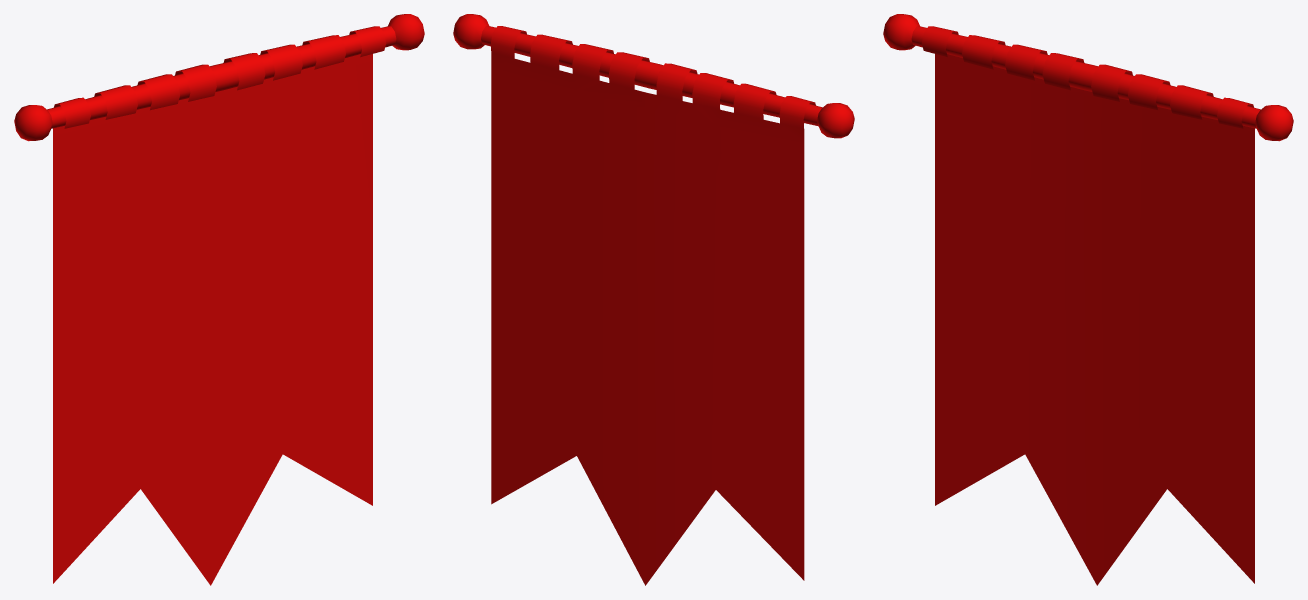
The model's file is Banner.fbx.
The picture shows the model from 3 angles, left to right: view 1: azimuth 30°, elevation 25°; view 2: azimuth 150°, elevation 25°; view 3: azimuth 330°, elevation 25°; orthographic projection. The views are drawn at different scales.
Visible parts, largest first — view 1: Banner; view 2: Banner; view 3: Banner.
Boxes of the visible parts, x1,y1,x2,y2 form: Banner: (14,14,424,585); Banner: (453,14,854,585); Banner: (883,14,1293,585).
Size of the model in its own units: 1.93 by 0.1588 by 2.41.
